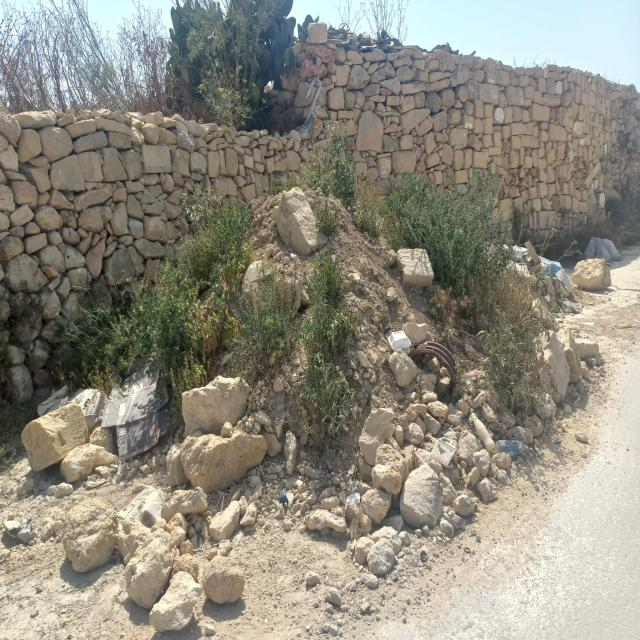Bottle: (471, 412, 495, 453), (495, 439, 526, 455), (463, 370, 482, 383)
Carton: (35, 354, 181, 463), (502, 241, 573, 298)
Other litter: (412, 342, 457, 395), (294, 75, 322, 137), (576, 237, 623, 266), (4, 515, 40, 544)
Other plastic: (430, 436, 460, 466)
Paper: (345, 491, 361, 505), (278, 489, 288, 506)
Styrofoam piece: (388, 330, 411, 354)
